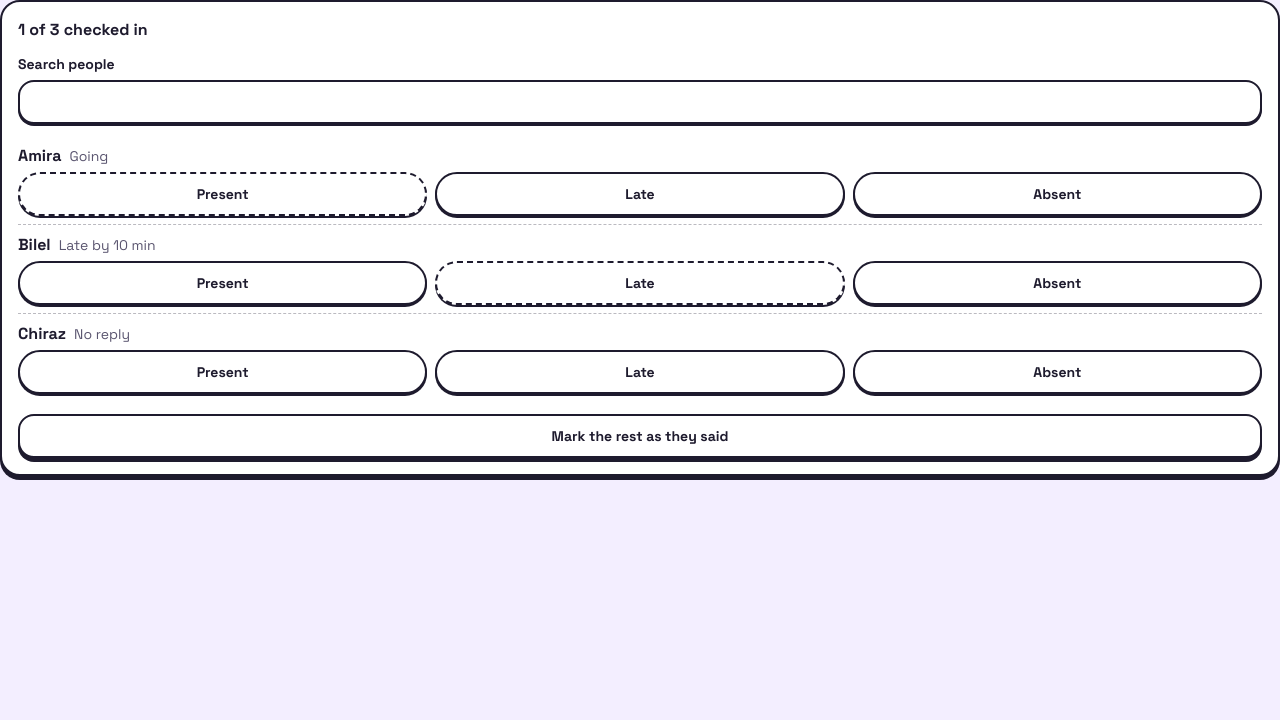
Scenario: CheckInList › marks the rest after asking
Check: the link "Amira" is shown, box [18,144,62,168]
Click the button "Mark the rest as they said" at {"x": 640, "y": 436}, box [18,414,1262,458]
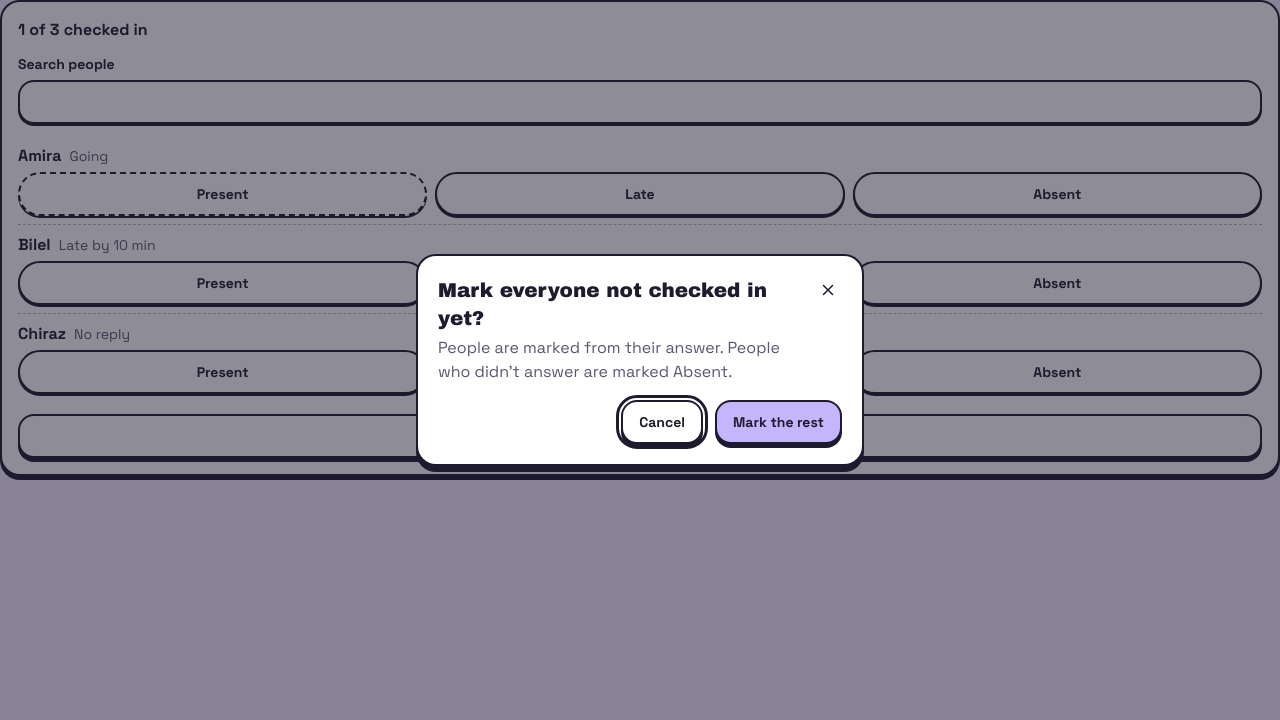
Check: the heading "Mark everyone not checked in yet?" is shown, box [438,276,802,332]
Check: the text "People are marked from their answer. People who didn't answer are marked Absent." is shown, box [438,336,802,384]
Click the button "Mark the rest" at {"x": 778, "y": 422}, box [715,400,842,444]
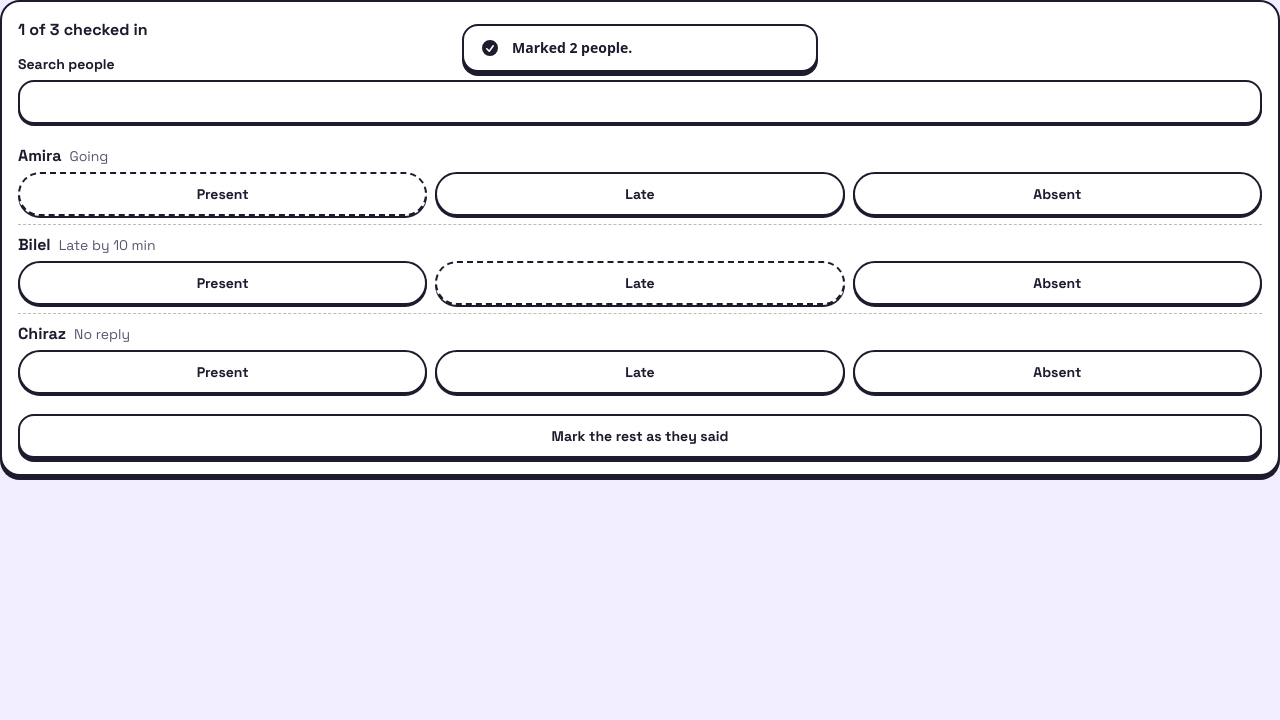
Check: the text "Marked 2 people." is shown, box [512,38,632,58]
